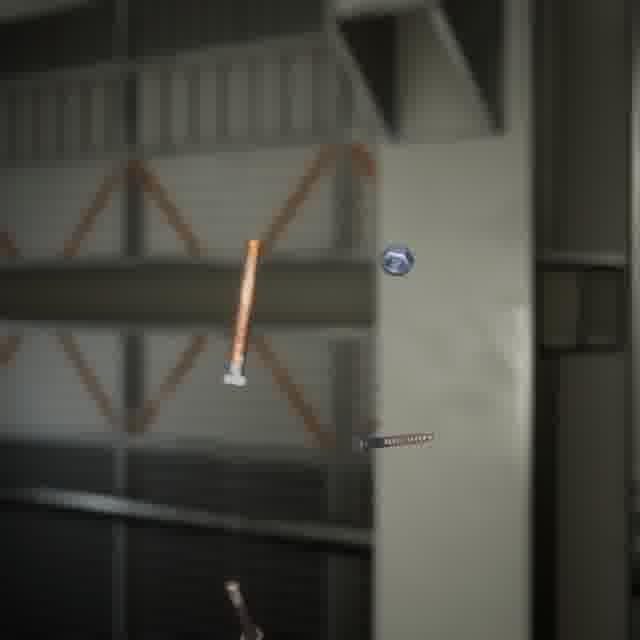bolt: (217, 234, 265, 390), (221, 575, 269, 640), (347, 428, 438, 459)
nut: (375, 240, 418, 280)
